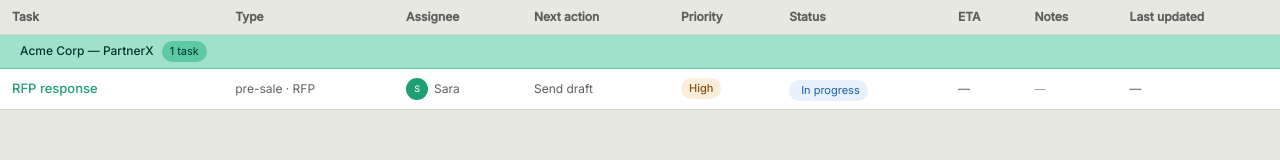
TaskTable › collapses and expands a group when its header is clicked
Expected: the button "RFP response" is shown, top-left (12, 79), bottom-right (98, 98)
Click the text "Acme Corp — PartnerX" at (113, 51), box top-left (20, 41), bottom-right (207, 62)
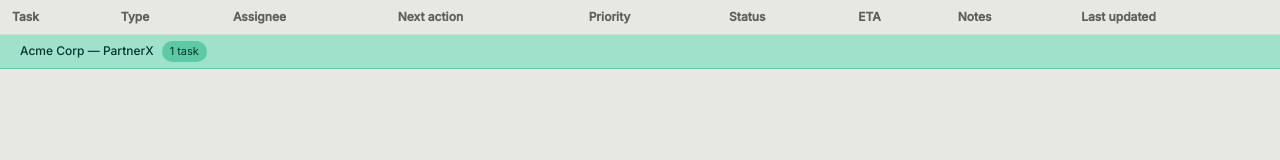
Expected: the button "RFP response" is gone
Click the text "Acme Corp — PartnerX" at (113, 51), box top-left (20, 41), bottom-right (207, 62)
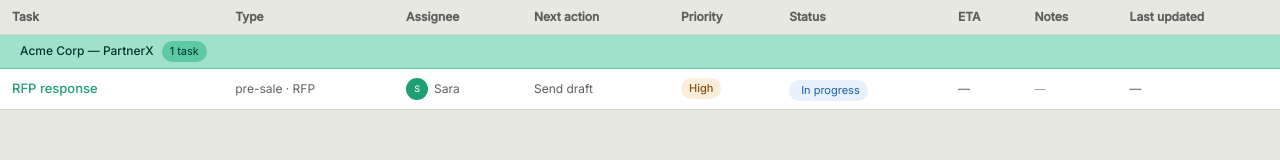
Expected: the button "RFP response" is shown, top-left (12, 79), bottom-right (98, 98)
